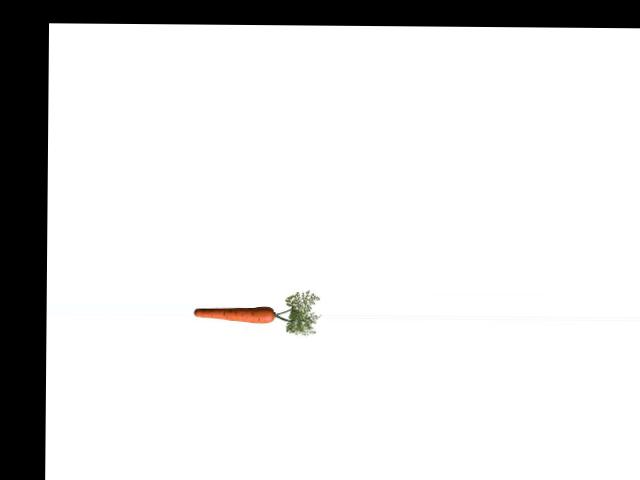carrot: (190, 301, 282, 327)
